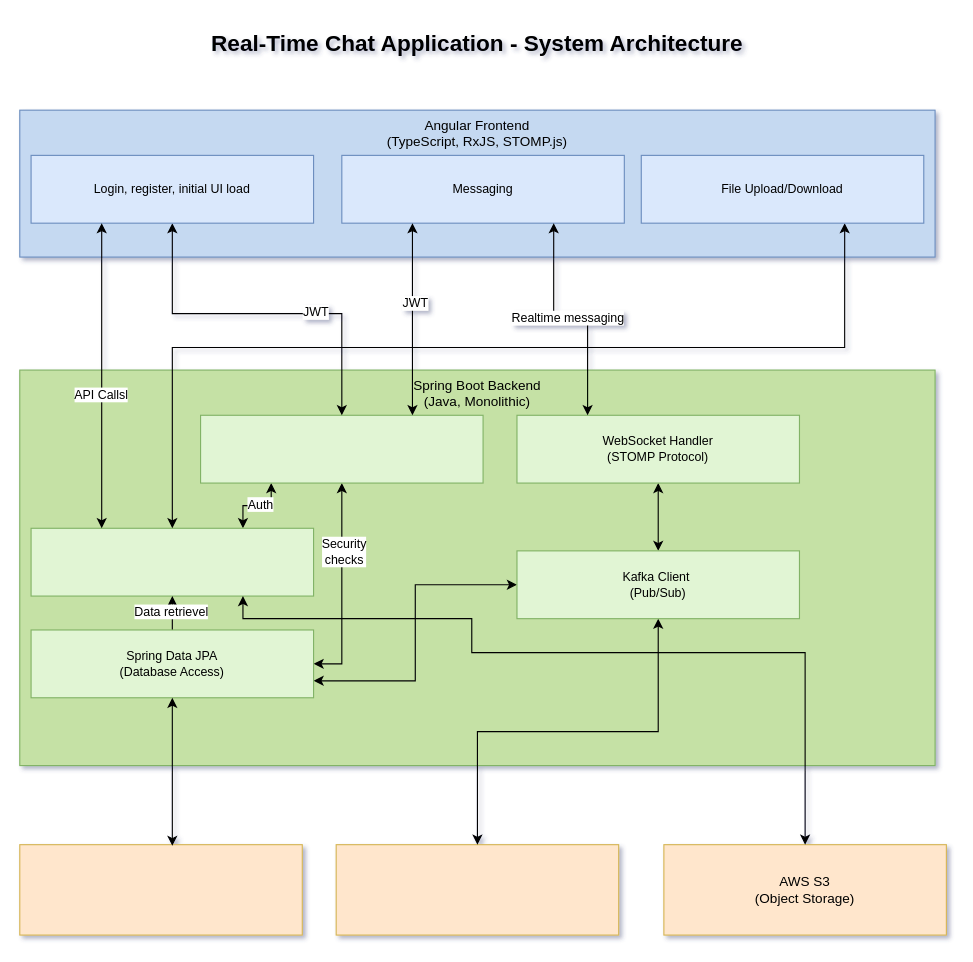
The diagram is 973 pixels wide and 962 high, and some of its shapes have lost their labels. The box of each missing label's shape, as (x1, y1, x2, y2) in pixels:
Apache Kafka (Message Broker): (335, 844, 619, 935)
PostgreSQL Database (Primary Data Store): (19, 844, 302, 935)
REST API (Spring Web MVC): (30, 527, 314, 596)
Spring Security (Authentication & Authorization): (199, 414, 483, 483)
